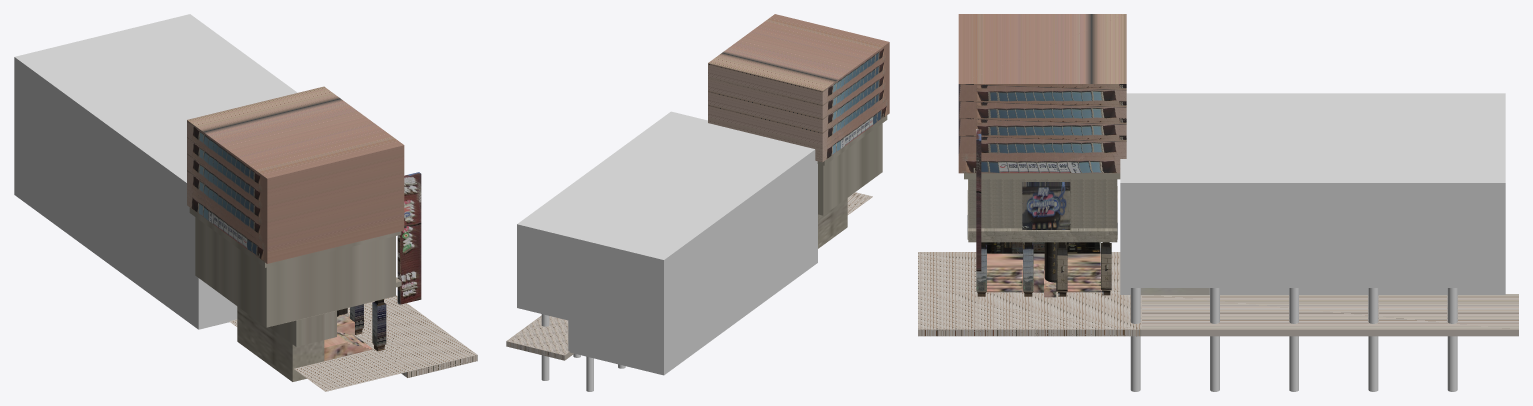
File: taichung2.0.fbx
3 renders of one model, left to right at view 1: azimuth 30°, elevation 25°; view 2: azimuth 150°, elevation 25°; view 3: azimuth 270°, elevation 25°, orthographic. The views are drawn at different scales.
Visible parts, largest first — view 1: Cube.020, Cube.008, Cube.018, Plane.002, Cube.014, Cube.015, Cube.017, Cube.016, Cube.012, Plane, Cube.001, Cube.009 (+1 smaller); view 2: Cube.020, Cube.018, Cube.008, Cube.015, Cube.016, Cube.017, Plane.003, Cube.014, Cylinder.001; view 3: Cube.020, Cube.018, Plane.003, Plane.002, Cube.008, Cylinder.001, Cube.014, Cube.015, Cube.017, Plane, Cube.016, Plane.001 (+9 smaller).
Part boxes in pixels (bbox=[...]): Cube.020: bbox=[14, 14, 297, 329]; Cube.008: bbox=[189, 207, 401, 381]; Cube.018: bbox=[187, 86, 404, 195]; Plane.002: bbox=[347, 295, 477, 377]; Cube.014: bbox=[187, 187, 404, 263]; Cube.015: bbox=[187, 169, 404, 246]; Cube.017: bbox=[187, 137, 404, 213]; Cube.016: bbox=[187, 153, 404, 228]; Cube.012: bbox=[397, 172, 421, 304]; Plane: bbox=[229, 319, 406, 391]; Cube.001: bbox=[372, 299, 386, 351]; Cube.009: bbox=[324, 335, 347, 360]; Cube.020: bbox=[517, 111, 817, 375]; Cube.018: bbox=[708, 14, 889, 105]; Cube.008: bbox=[817, 115, 887, 248]; Cube.015: bbox=[708, 84, 889, 147]; Cube.016: bbox=[708, 70, 889, 132]; Cube.017: bbox=[708, 56, 889, 118]; Plane.003: bbox=[506, 315, 573, 360]; Cube.014: bbox=[708, 98, 889, 162]; Cylinder.001: bbox=[541, 314, 580, 380]; Cube.020: bbox=[1120, 93, 1505, 294]; Cube.018: bbox=[958, 14, 1126, 103]; Plane.003: bbox=[1141, 294, 1518, 336]; Plane.002: bbox=[918, 294, 1141, 336]; Cube.008: bbox=[964, 173, 1120, 242]; Cylinder.001: bbox=[1130, 288, 1457, 391]; Cube.014: bbox=[958, 153, 1126, 173]; Cube.015: bbox=[958, 135, 1126, 155]; Cube.017: bbox=[958, 101, 1126, 120]; Plane: bbox=[918, 252, 1120, 293]; Cube.016: bbox=[958, 118, 1126, 137]; Plane.001: bbox=[1022, 182, 1070, 229].
Size of the model in its own units: 8702 by 11908 by 22648.
17 materials, 17 textured.
